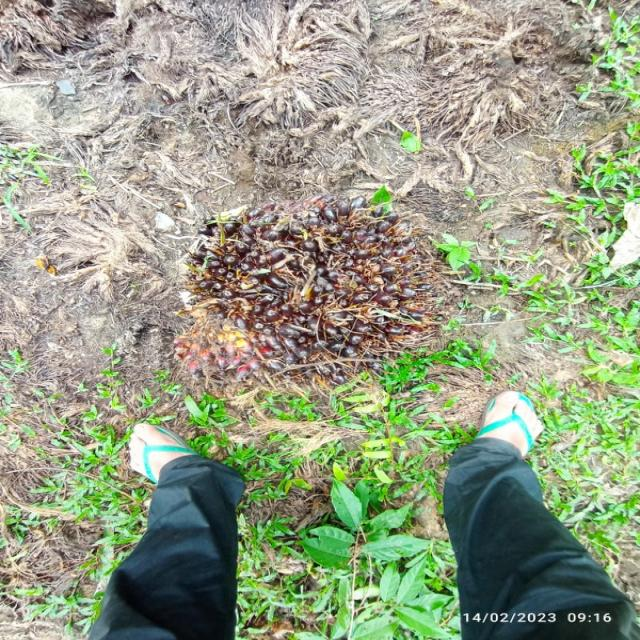fraksi 00: (187, 201, 433, 375)
